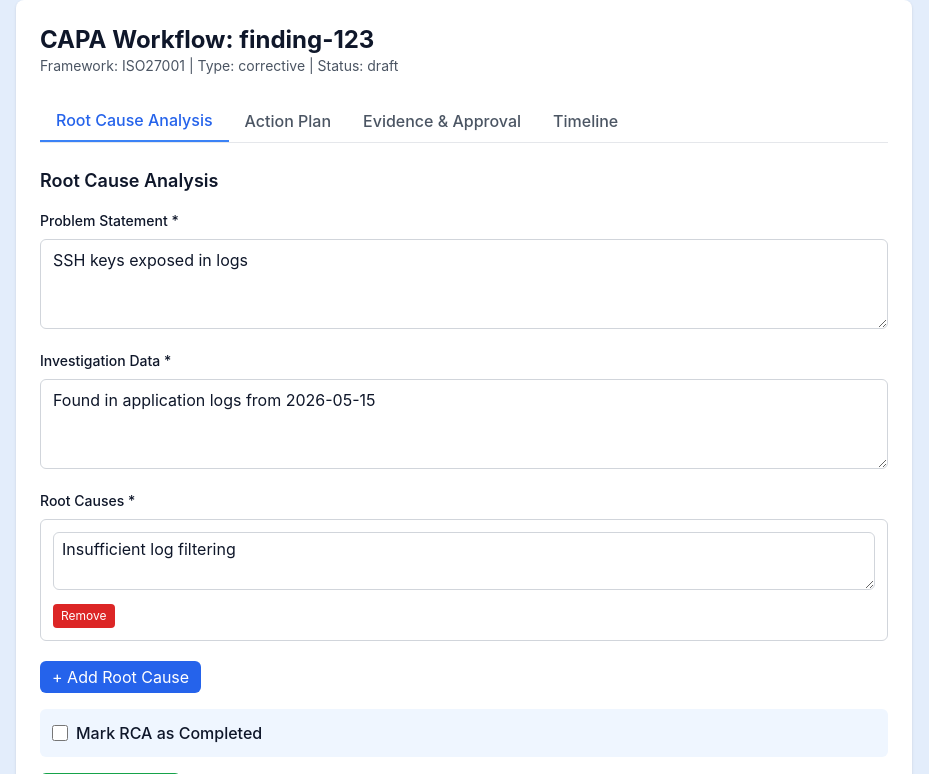
CapaDetailPanel › should render approval section with implementer and reviewer roles
Click the button "Evidence & Approval" at (442, 121), box 347,100 -> 537,142
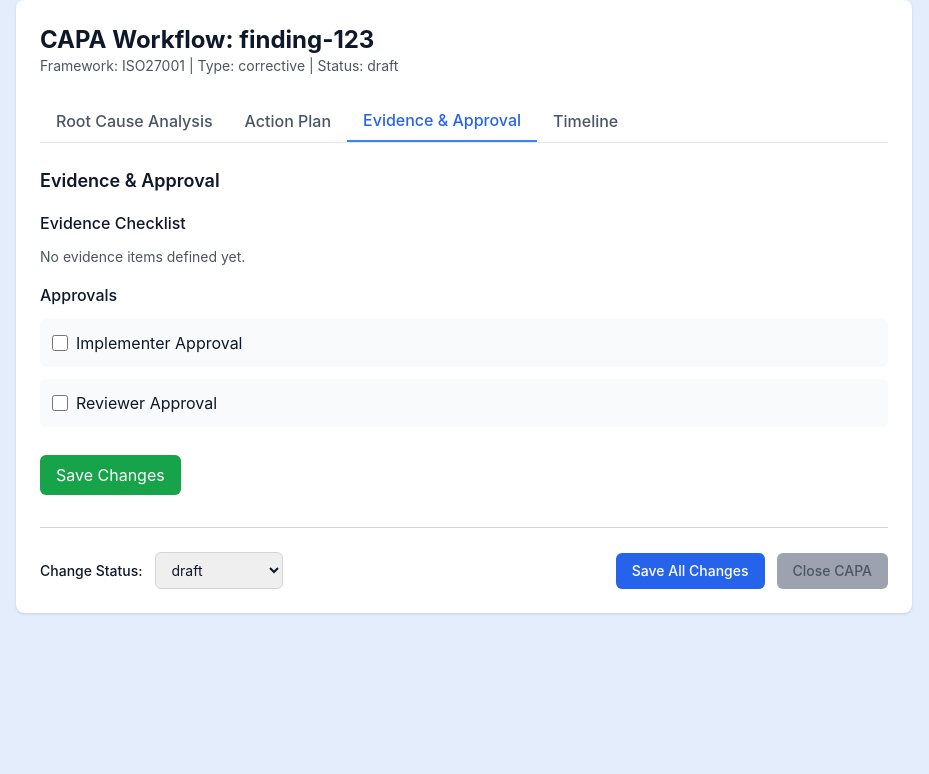
Expected: the text "Implementer Approval" is shown, 76,331 -> 242,355
Expected: the text "Reviewer Approval" is shown, 76,391 -> 217,415
